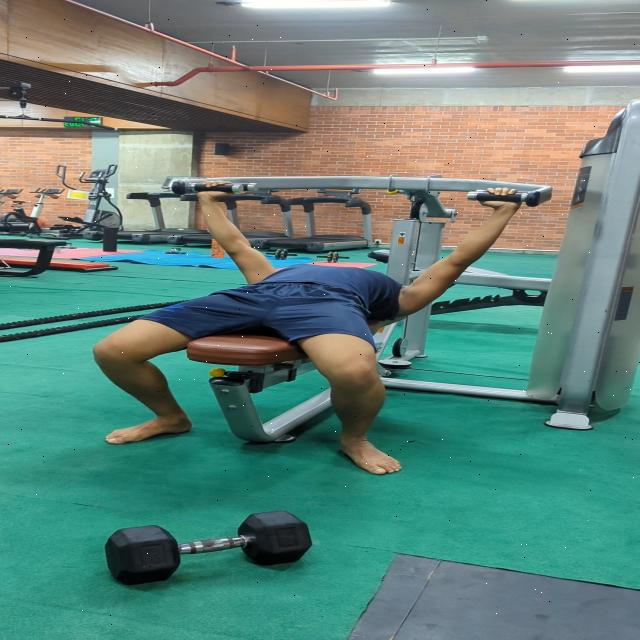Normal_BrenchPress: (51, 176, 542, 484)
